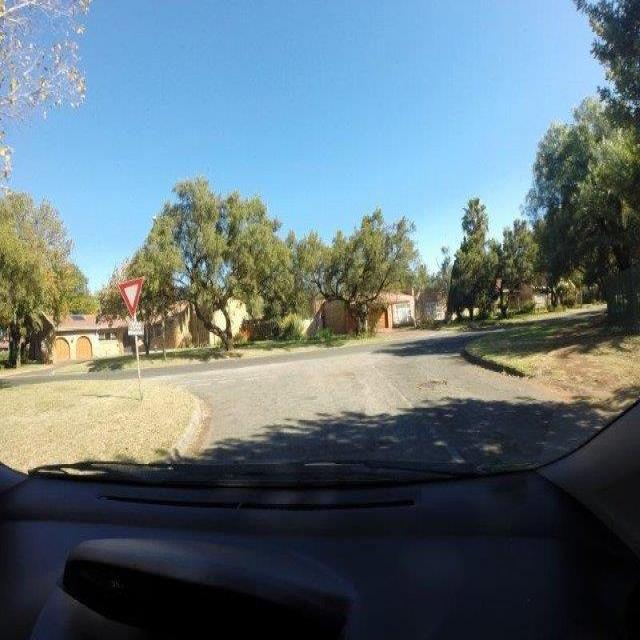lubang: (415, 377, 447, 395), (330, 368, 362, 382), (514, 393, 536, 404)
